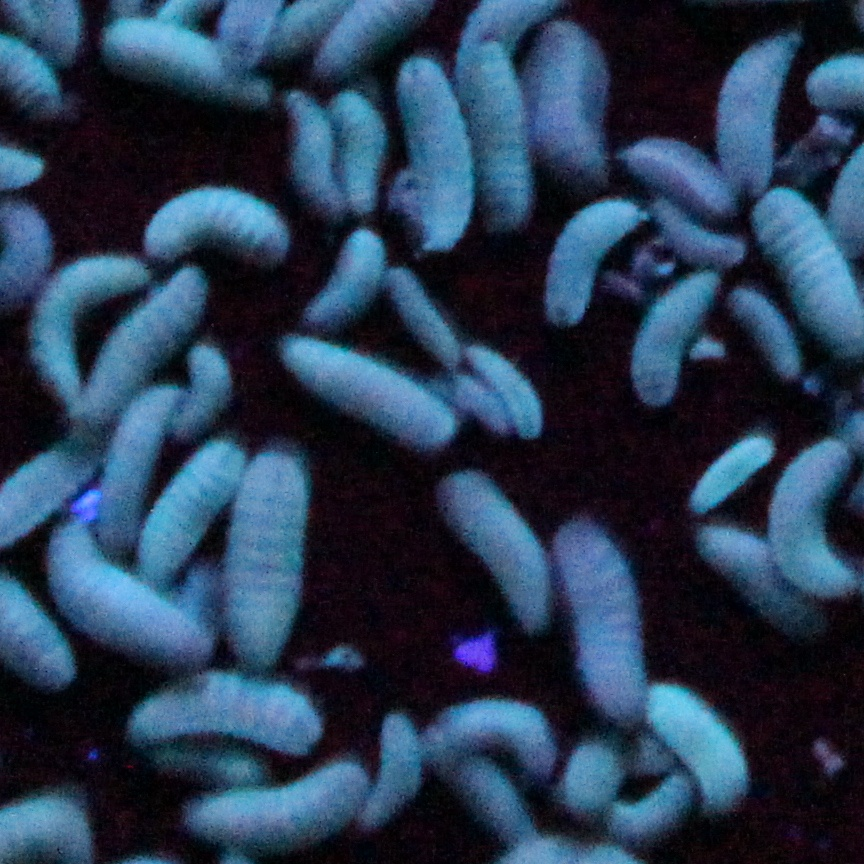larve: (40, 521, 219, 668), (74, 266, 222, 432), (85, 264, 215, 432), (551, 505, 644, 723), (281, 337, 472, 443), (442, 468, 551, 637), (31, 250, 149, 405), (228, 437, 306, 668), (633, 680, 765, 816), (183, 759, 376, 848), (133, 437, 247, 584), (394, 50, 474, 259), (124, 678, 328, 757), (713, 28, 806, 198), (101, 378, 188, 559), (765, 434, 853, 603), (456, 32, 531, 228), (424, 693, 567, 780), (533, 28, 610, 189), (542, 198, 640, 323), (144, 182, 290, 264), (626, 271, 719, 398), (374, 250, 463, 362), (681, 430, 790, 512), (103, 16, 233, 84), (369, 705, 433, 834), (638, 196, 751, 268), (469, 343, 549, 443), (326, 84, 385, 214), (310, 234, 388, 330), (731, 284, 808, 380), (628, 137, 731, 203), (688, 521, 781, 593), (288, 91, 342, 209), (560, 732, 619, 828), (174, 339, 228, 437)
